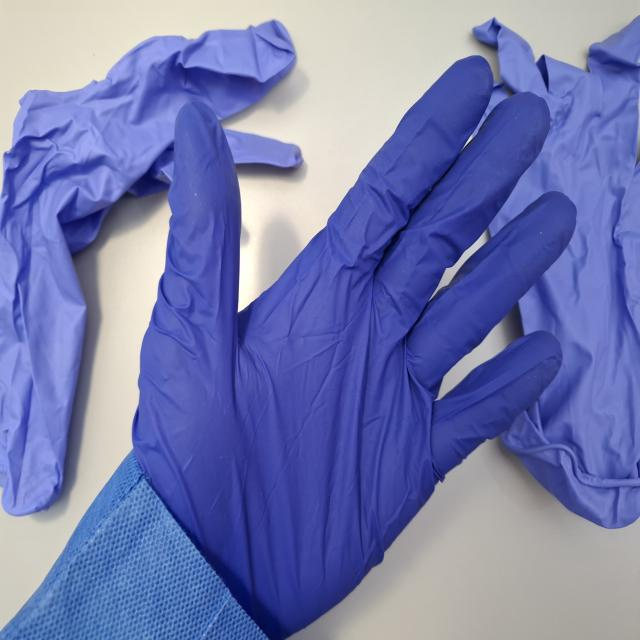glove_on: (118, 52, 580, 640)
